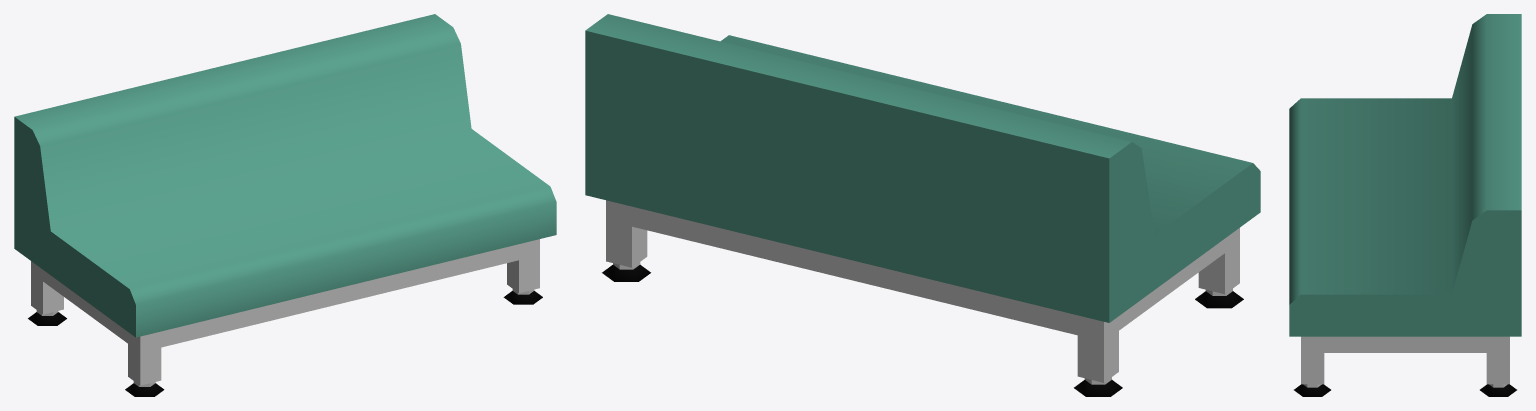
The model's file is sofa.fbx.
3 views of the same model, side by side, from view 1: azimuth 30°, elevation 25°; view 2: azimuth 150°, elevation 25°; view 3: azimuth 270°, elevation 25° (orthographic). The views are drawn at different scales.
Visible parts, largest first — view 1: yawa, foot; view 2: yawa, foot; view 3: yawa, foot.
Part boxes in pixels (<box>): yawa: <box>14,14,556,337</box>; foot: <box>28,239,542,396</box>; yawa: <box>585,14,1260,322</box>; foot: <box>602,200,1243,396</box>; yawa: <box>1289,14,1521,336</box>; foot: <box>1294,336,1516,396</box>.
Bounding box in the file's own units: 200 × 90 × 100.
